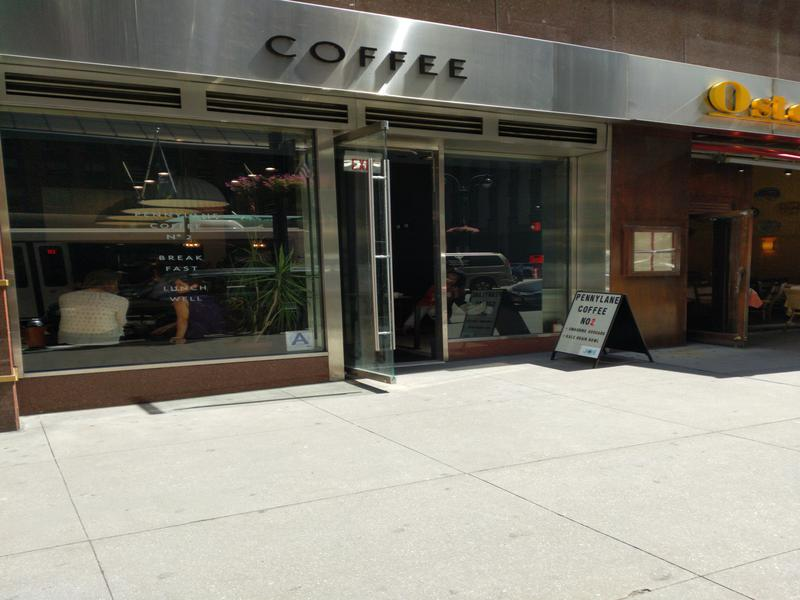door: (333, 119, 405, 389)
